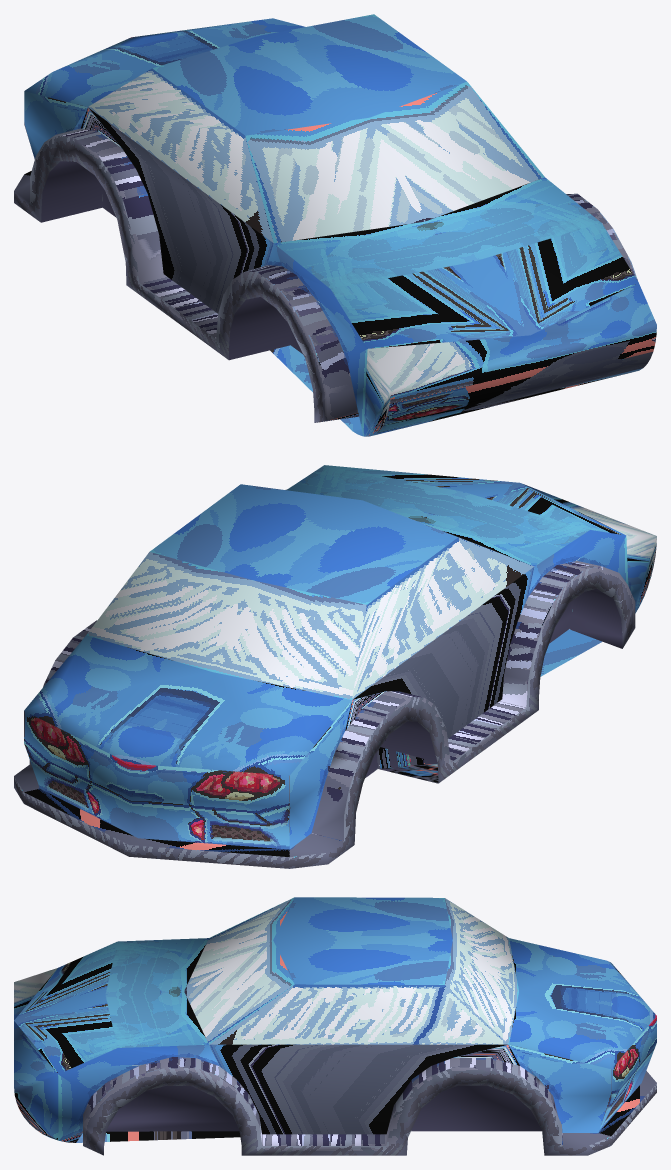
The model's file is Collisionvoiture.glb.
The picture shows the model from 3 angles, top to bottom: view 1: azimuth 30°, elevation 25°; view 2: azimuth 150°, elevation 25°; view 3: azimuth 270°, elevation 25°; orthographic projection. The views are drawn at different scales.
Parts seen in each view (by area): view 1: body-convcolonly; view 2: body-convcolonly; view 3: body-convcolonly.
Part boxes in pixels (x1,y1,x2,y2): body-convcolonly: [14, 14, 656, 436]; body-convcolonly: [14, 465, 656, 868]; body-convcolonly: [14, 897, 656, 1155].
Bounding box in the file's own units: 1.3 × 0.7369 × 2.8.
Materials: 1 (1 with a texture image).
